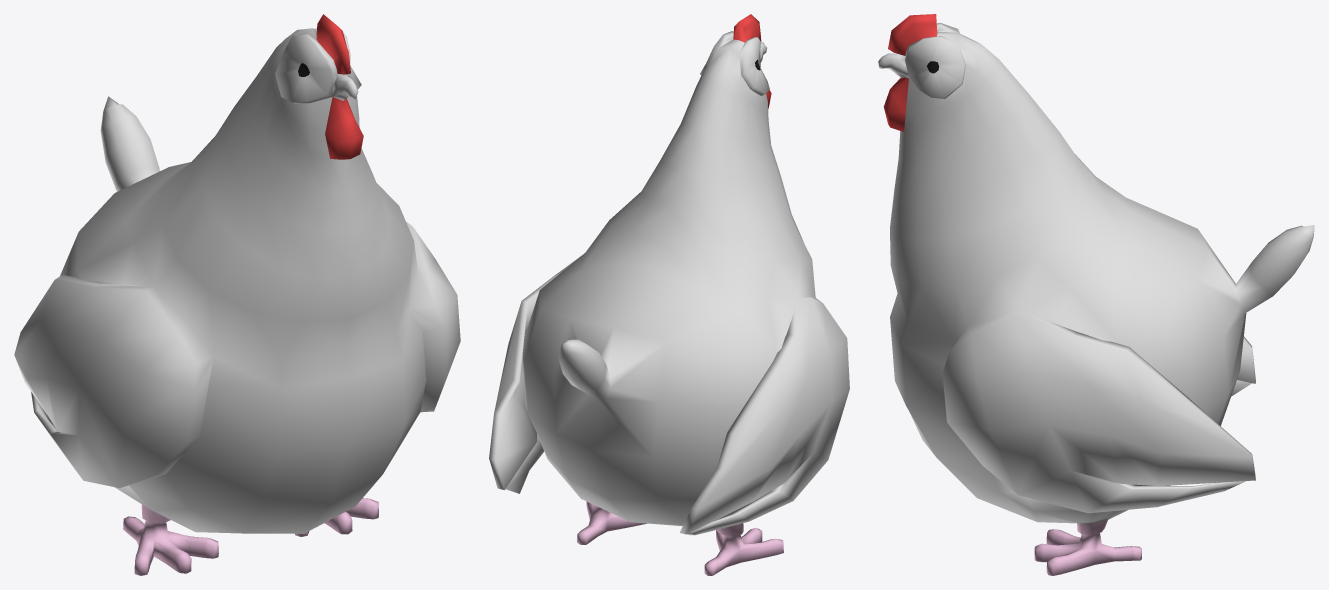
The picture shows the model from 3 angles, left to right: view 1: azimuth 30°, elevation 25°; view 2: azimuth 150°, elevation 25°; view 3: azimuth 270°, elevation 25°; orthographic projection. The views are drawn at different scales.
Parts seen in each view (by area): view 1: chicken; view 2: chicken; view 3: chicken.
Boxes of the visible parts, x1,y1,x2,y2 form: chicken: (14, 14, 460, 575); chicken: (489, 14, 849, 575); chicken: (878, 14, 1314, 575).
Bounding box in the file's own units: 0.1653 × 0.2564 × 0.1975.
